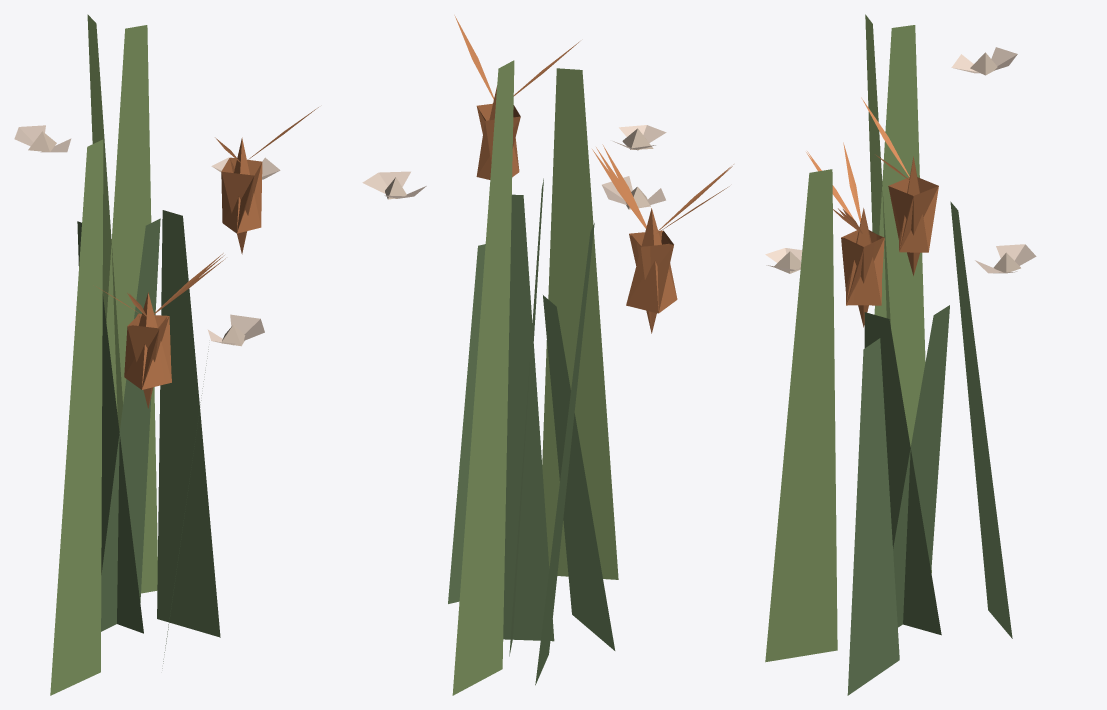
The model's file is nong.su__summer.glb.
3 renders of one model, left to right at view 1: azimuth 30°, elevation 25°; view 2: azimuth 150°, elevation 25°; view 3: azimuth 270°, elevation 25°, orthographic. The views are drawn at different scales.
Parts seen in each view (by area): view 1: nong.su__summer; view 2: nong.su__summer; view 3: nong.su__summer.
Part boxes in pixels (bbox=[...]): nong.su__summer: bbox=[14, 14, 318, 695]; nong.su__summer: bbox=[362, 15, 733, 695]; nong.su__summer: bbox=[765, 14, 1036, 695].
Size of the model in its own units: 0.4997 by 0.9887 by 0.4913.
